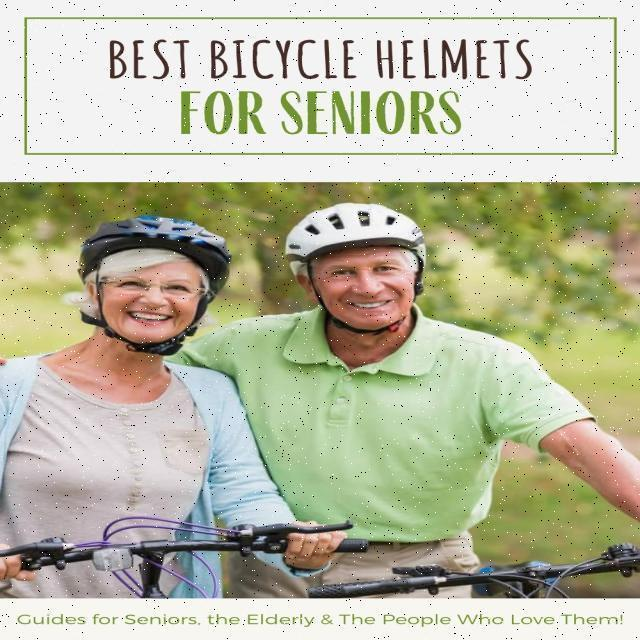helmet: (78, 214, 230, 358), (286, 202, 432, 338)
